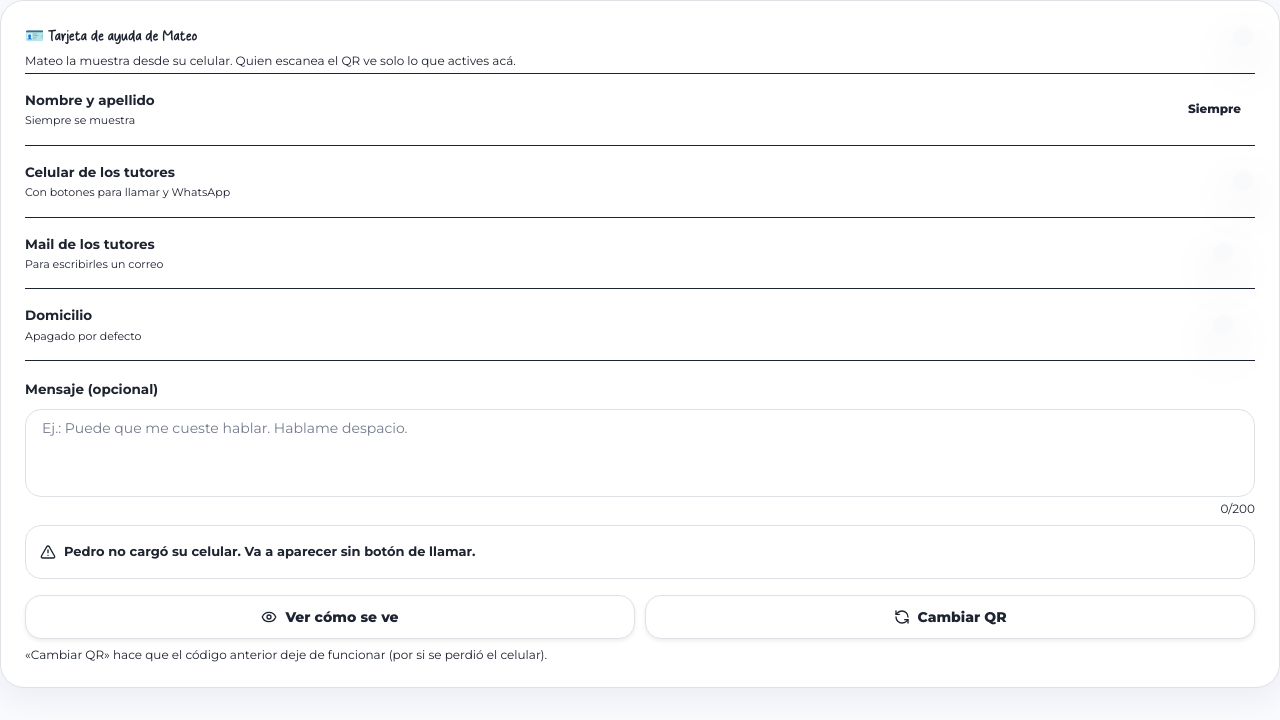
it: HelpCardSettingsCard › el mensaje cuenta caracteres (máx 200) y no guarda en cada tecla: solo al salir y si cambió
This screenshot has width=1280, height=720.
expect the heading "🪪 Tarjeta de ayuda de Mateo" is shown: met, box [25,27,197,47]
Step 1. Type "H" into the text box labelled "Mensaje (opcional)" → (640, 453), box [25,409,1255,497]
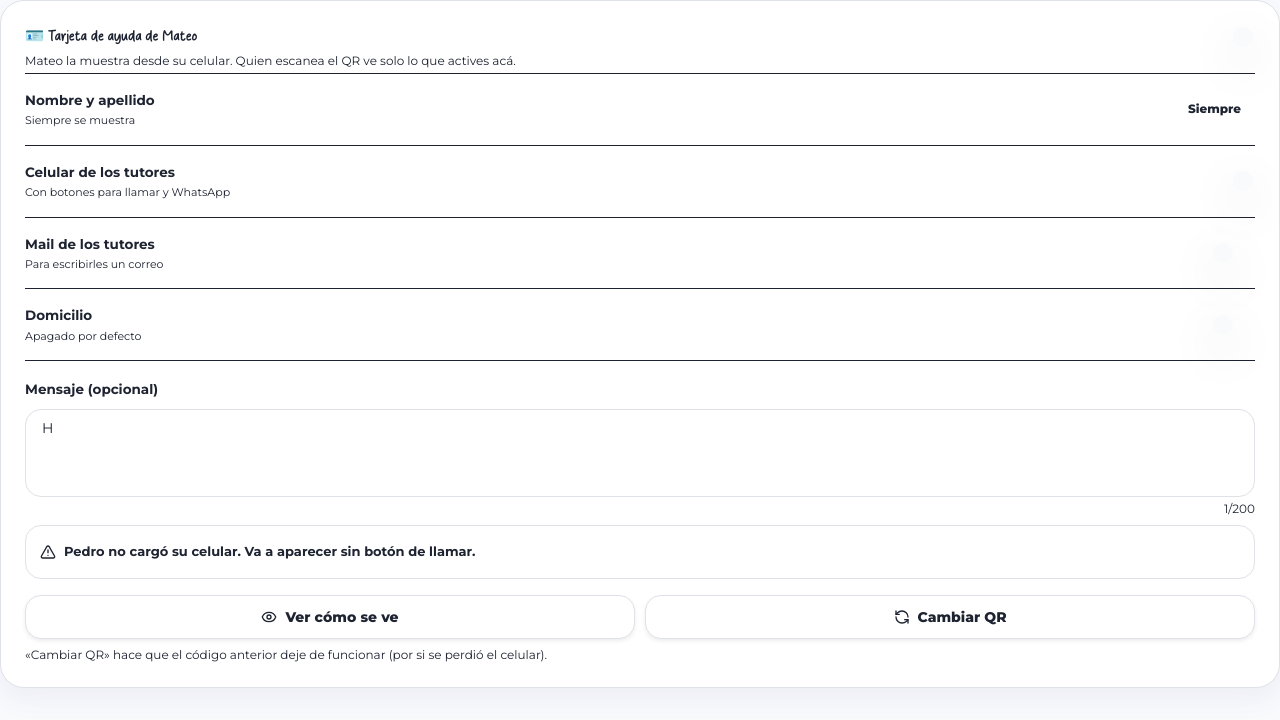
Step 2. Replace the text in the text box labelled "Mensaje (opcional)" with "Ho" → (640, 453), box [25,409,1255,497]
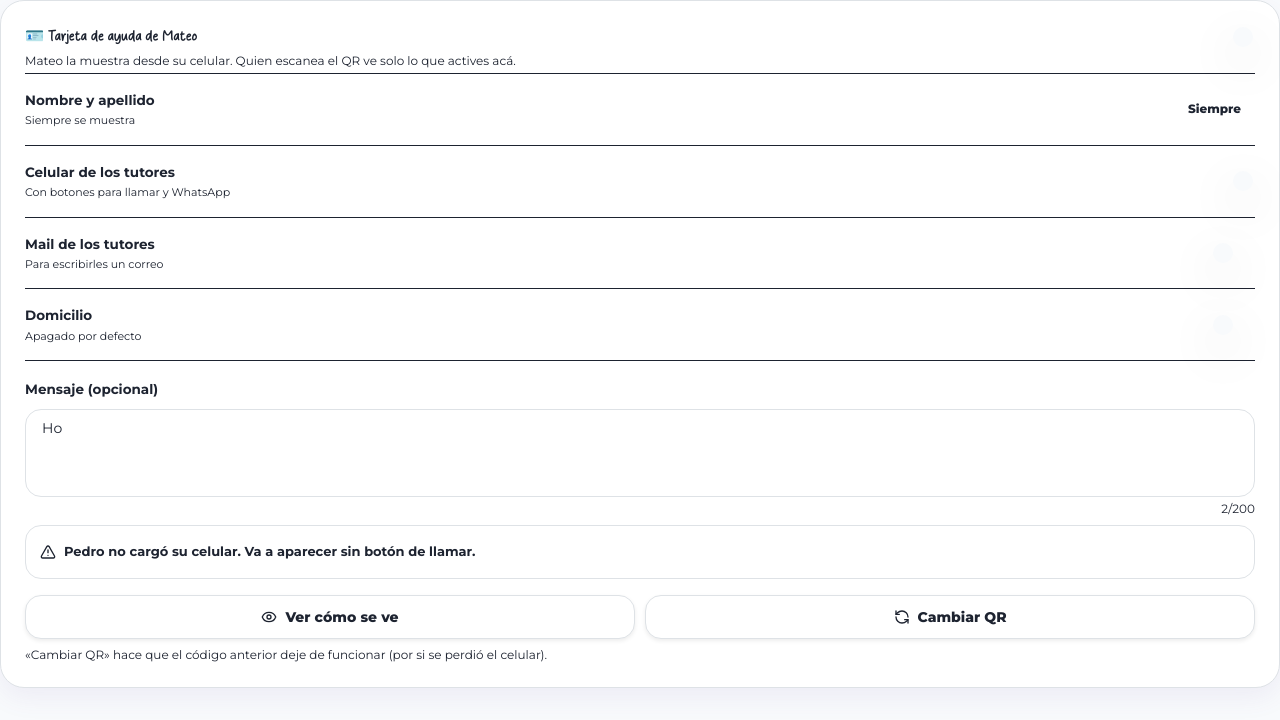
Step 3. Replace the text in the text box labelled "Mensaje (opcional)" with "Hol" → (640, 453), box [25,409,1255,497]
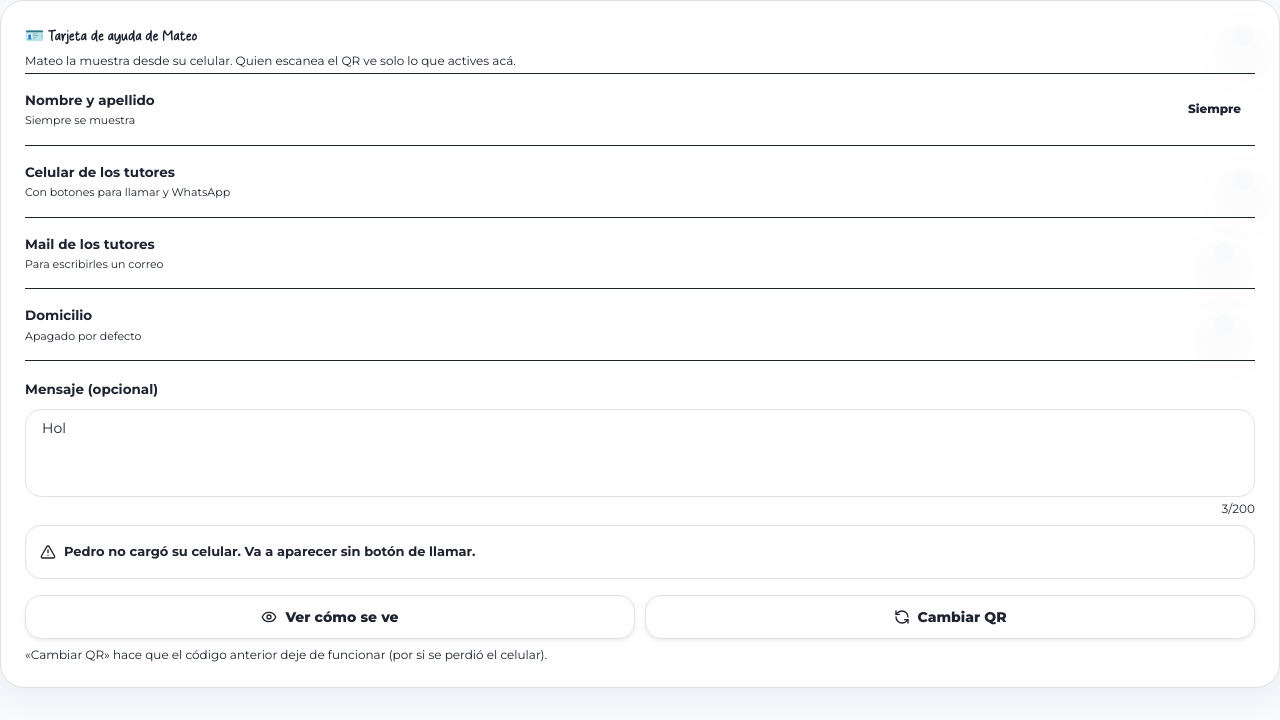
Step 4. Replace the text in the text box labelled "Mensaje (opcional)" with "Hola" → (640, 453), box [25,409,1255,497]
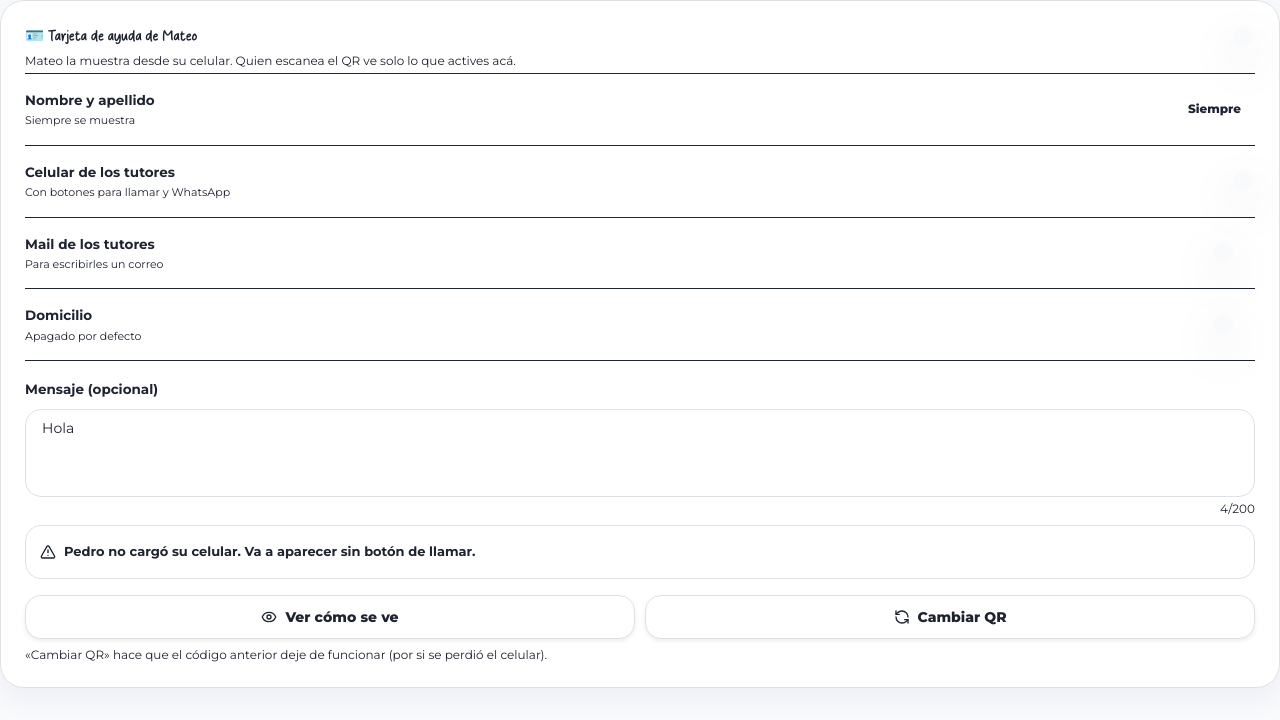
expect the text "4/200" is shown: met, box [1220,501,1255,516]
